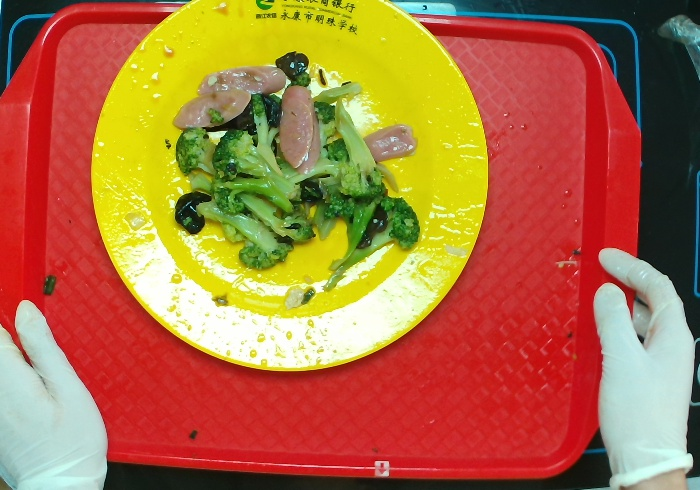YKMZ-Huang_Se_Mian_Pan: (86, 1, 501, 406)
